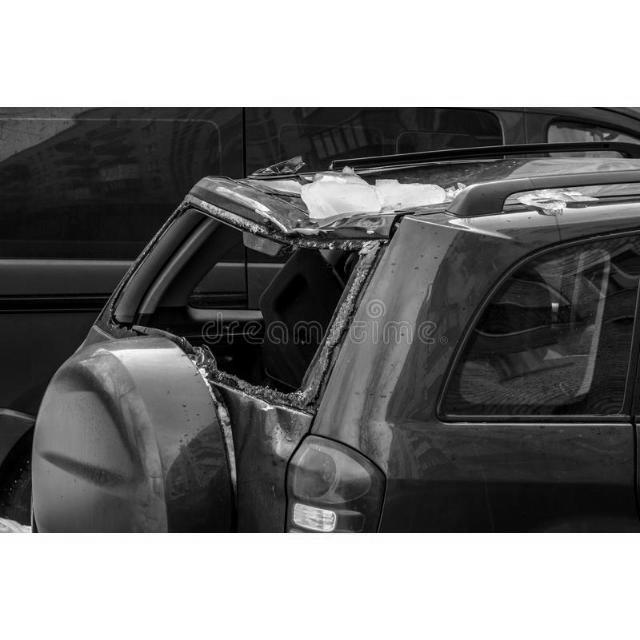Rear-windscreen-Damage: (96, 190, 383, 419)
roof-dent: (186, 133, 639, 250)
